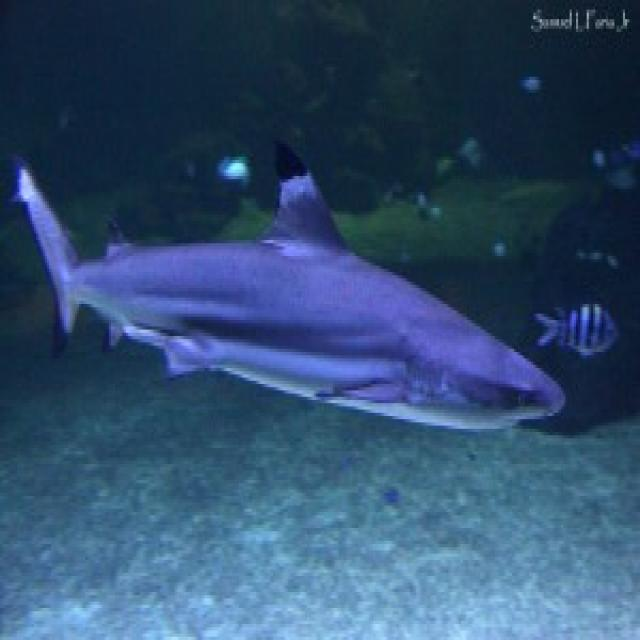Shark: (9, 150, 569, 438)
